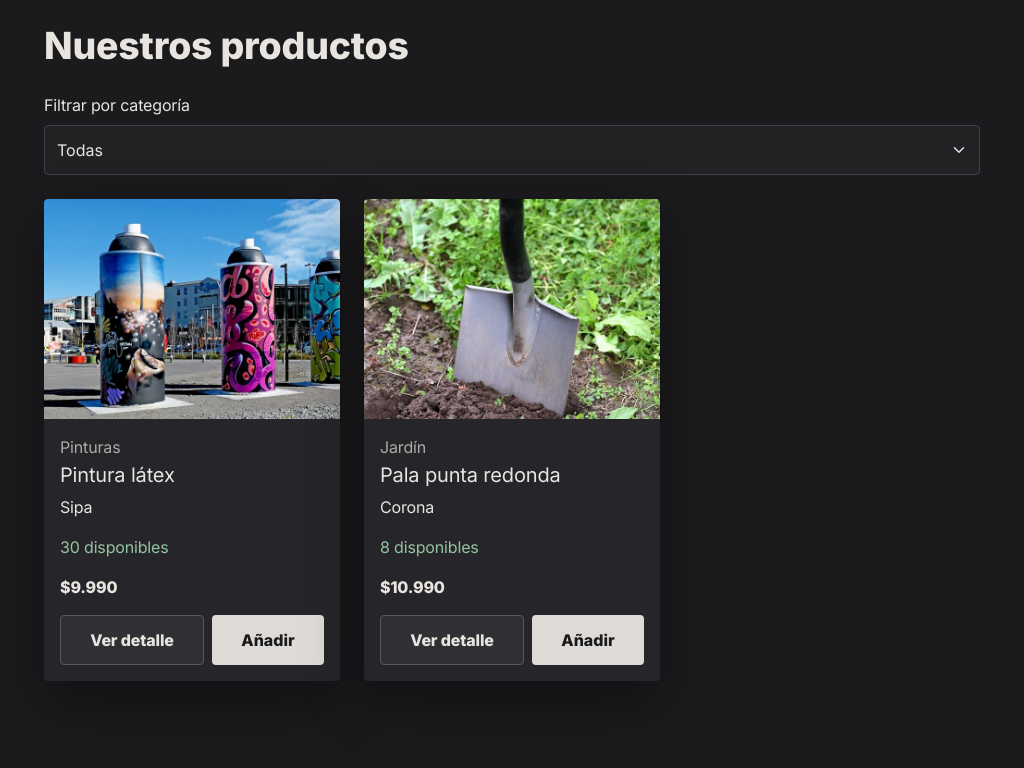
it: Productos › filtra por categoría y muestra solo los productos de esa categoría
This screenshot has width=1024, height=768.
Step 1. Select "Pinturas" in the dropdown labelled "Filtrar por categoría" → (512, 150), box [44,125,980,175]
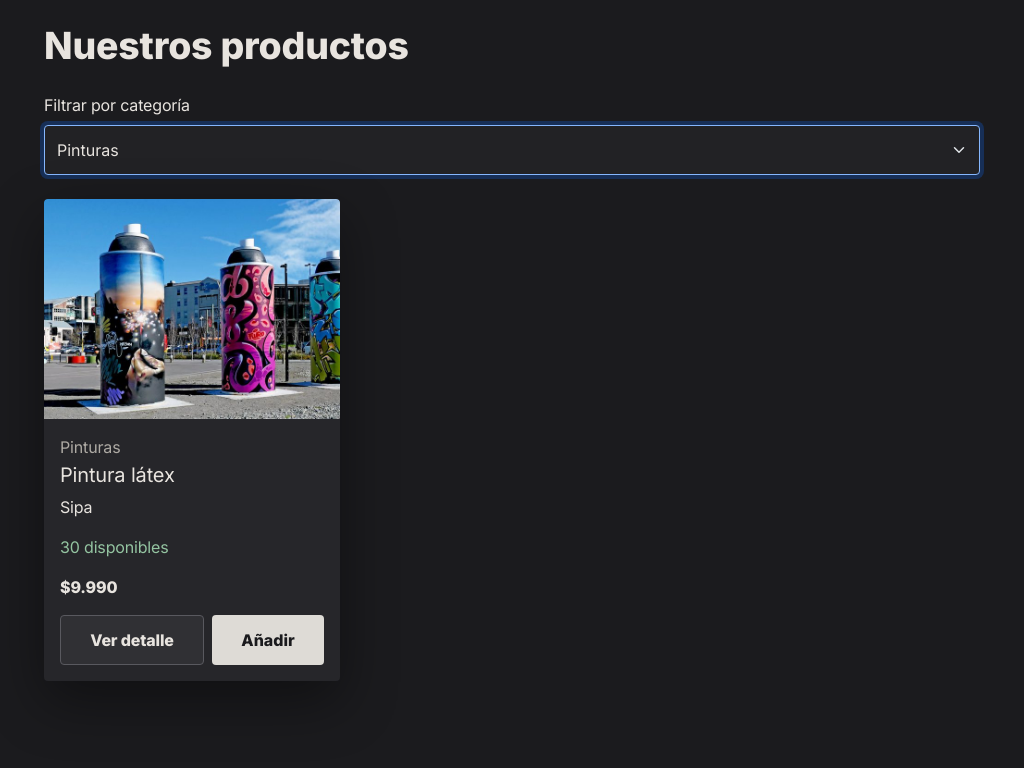
Expected: the heading "Pintura látex" is shown, [60,463,175,487]
Expected: the heading "Pala punta redonda" is gone
